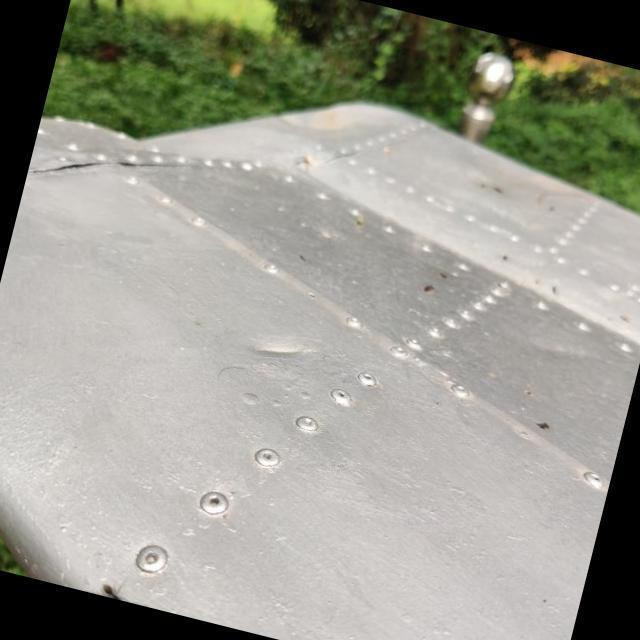Dent: (221, 298, 335, 404)
